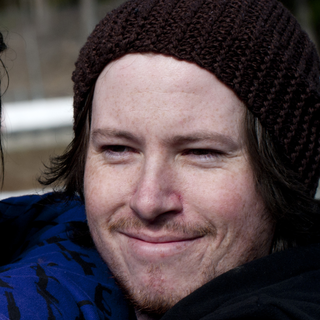eye: (172, 141, 229, 164), (97, 139, 143, 163)
